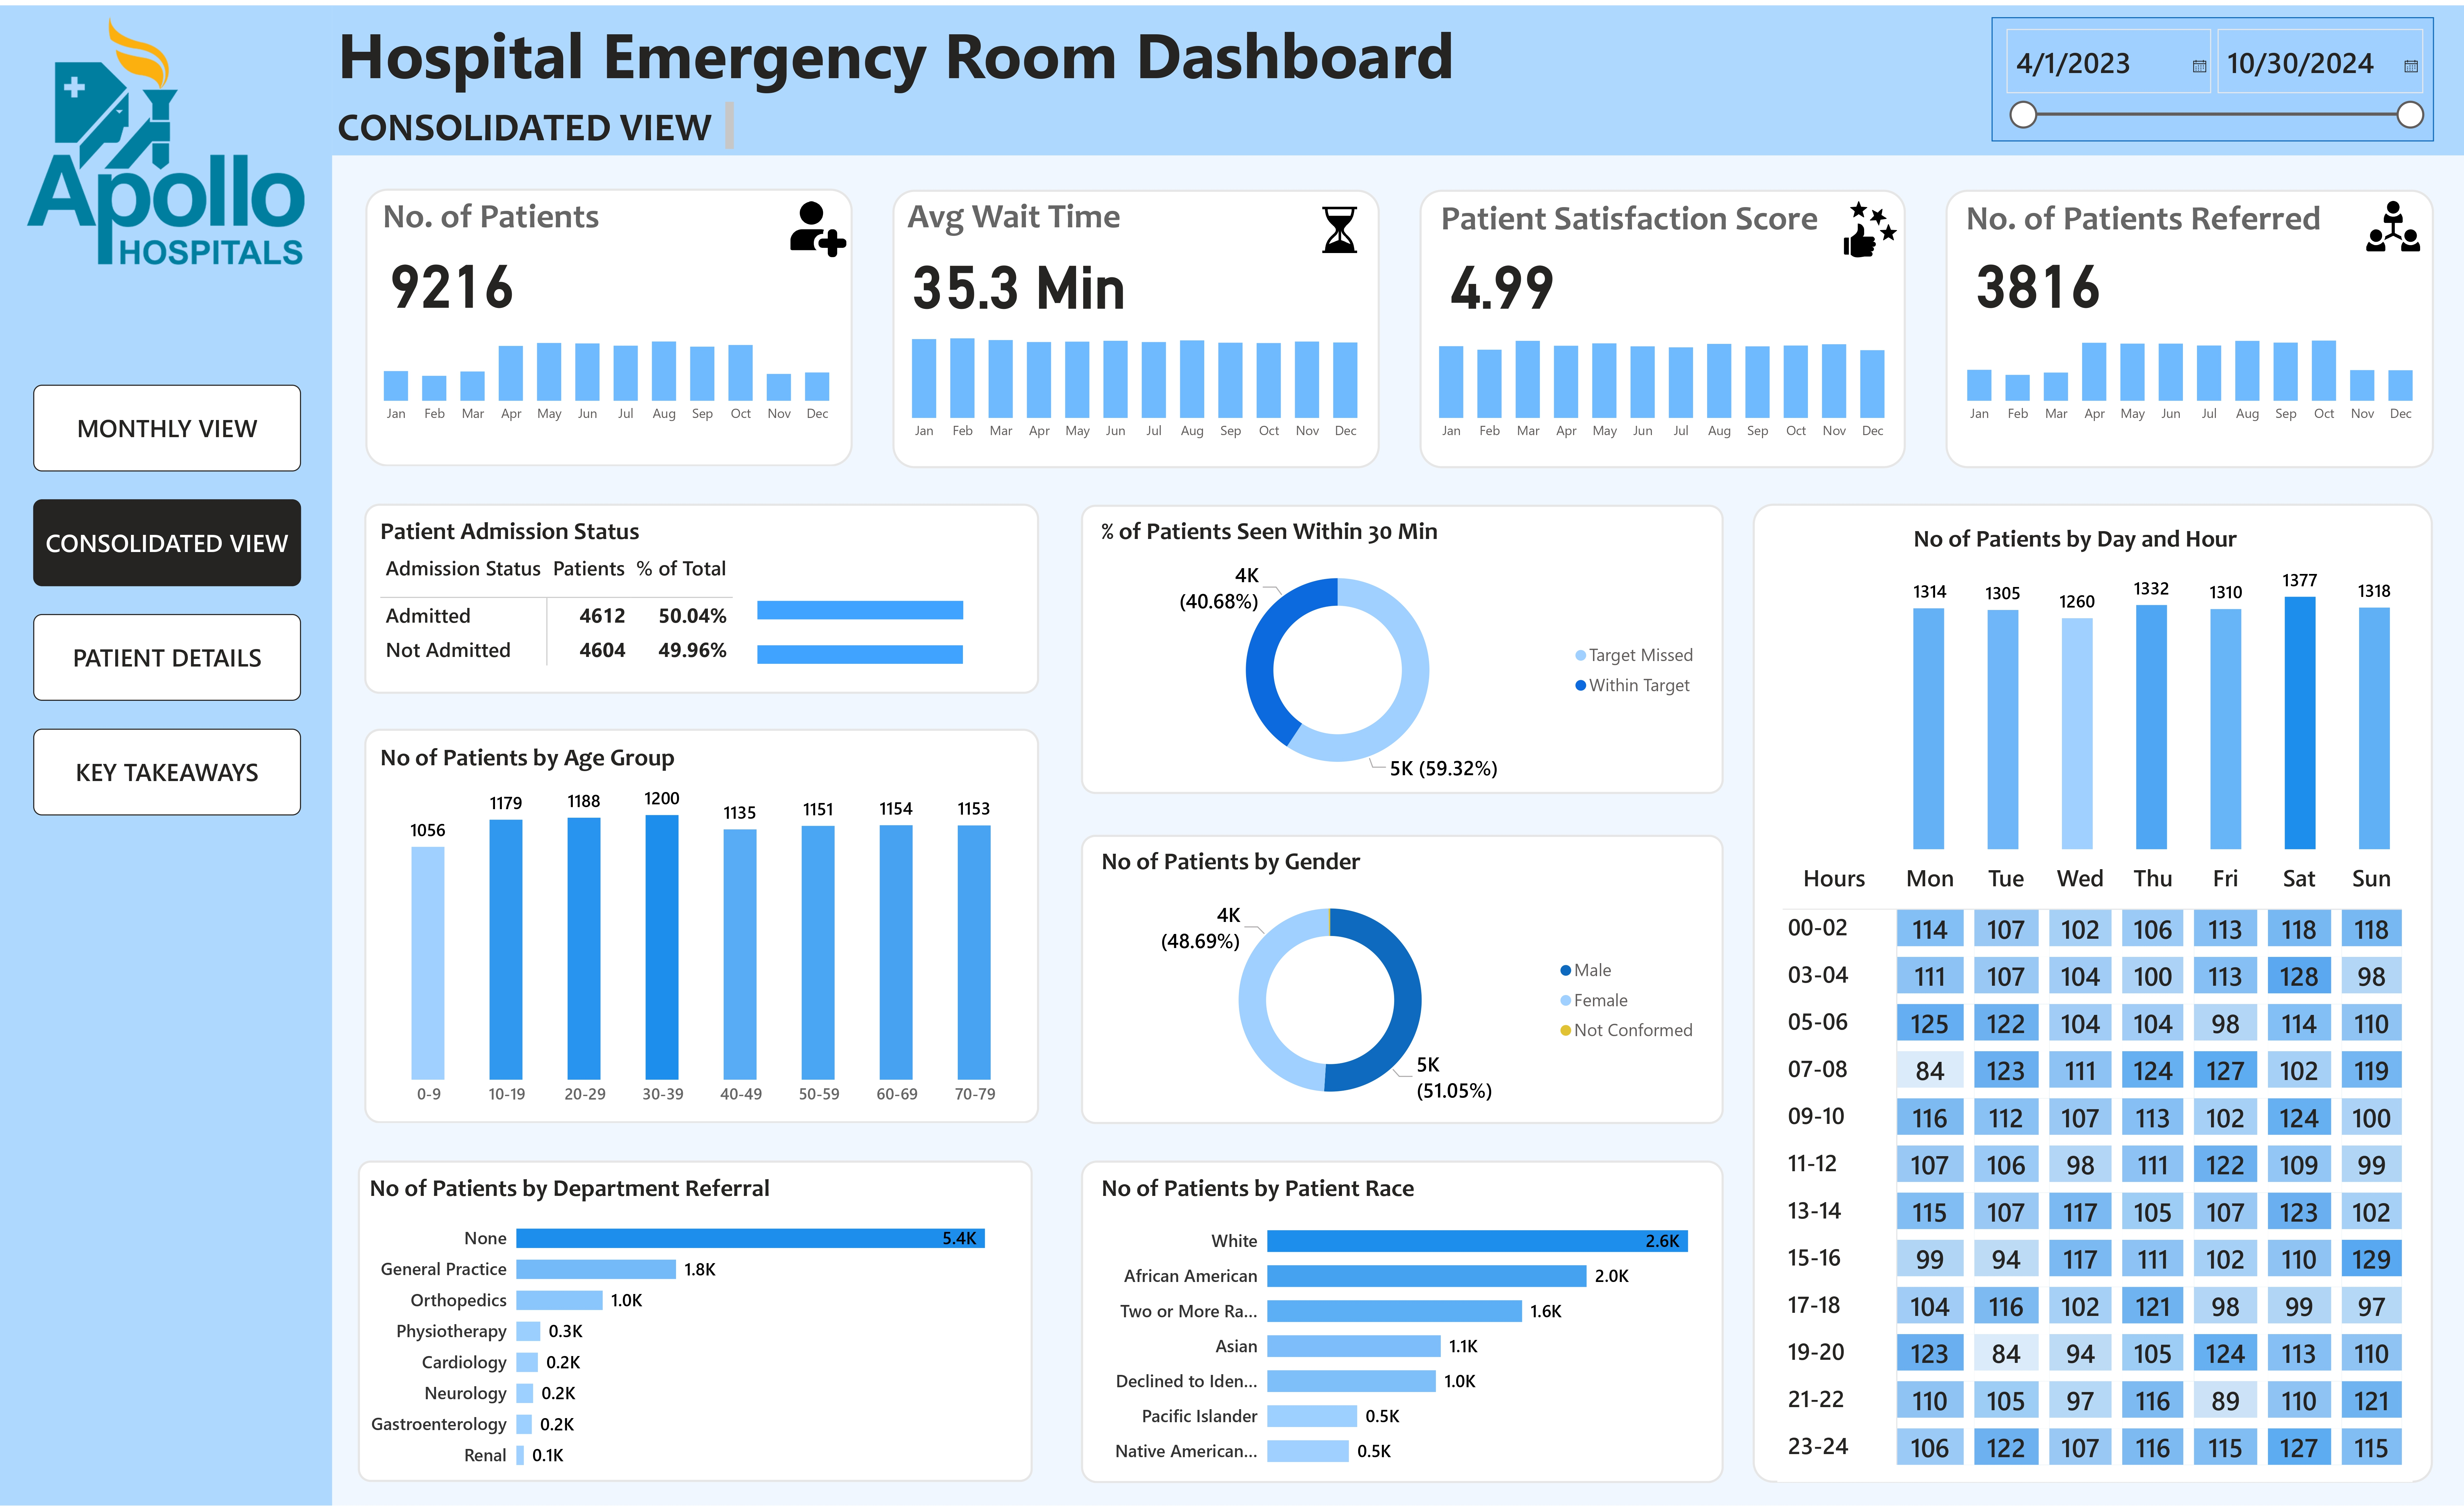

The dashboard page shown, as its layout file describes it:
{"tool":"powerbi","page":{"name":"CONSOLIDATED VIEW","canvas":[2300,1400],"ordinal":1},"visuals":[{"type":"shape","box":[0,0,310,1400],"z":0},{"type":"shape","box":[310,0,1990,140],"z":1000},{"type":"textbox","box":[310,0,1065,112.5],"z":2000},{"type":"textbox","box":[310,84.6,380,55.4],"z":3000},{"type":"shape","box":[340.8,171.5,455,259.4],"z":4000},{"type":"card","fields":{"Values":["Hospital ER_Data.No of Patients"]},"box":[351.4,221.4,141.4,68.6],"z":5000},{"type":"slicer","fields":{"Values":["Date Table.Date"]},"box":[1858.6,11.4,412.9,115.7],"z":6000},{"type":"textbox","box":[351.7,171.7,278.3,50],"z":8000},{"type":"columnChart","fields":{"Category":["Date Table.Month Name"],"Y":["Hospital ER_Data.No of Patients"]},"box":[338.7,273.7,455,125],"z":9000},{"type":"shape","box":[832.8,171.7,455,260],"z":11000},{"type":"shape","box":[1324.9,172,454,260],"z":12000},{"type":"shape","box":[1816,172,456,260],"z":13000},{"type":"textbox","box":[842,172,278,50],"z":14000},{"type":"textbox","box":[1340,174,388,50],"z":15000},{"type":"textbox","box":[1830,174,402,50],"z":16000},{"type":"card","fields":{"Values":["Hospital ER_Data.Avg Wait Time"]},"box":[843.3,221.7,216.7,68.3],"z":17000},{"type":"card","fields":{"Values":["Hospital ER_Data.Satisfaction Score"]},"box":[1340,221.7,125,68.3],"z":18000},{"type":"card","fields":{"Values":["Hospital ER_Data.No of Patient Referred"]},"box":[1830,221.4,145.7,68.6],"z":19000},{"type":"columnChart","fields":{"Category":["Date Table.Month Name"],"Y":["Avg(Hospital ER_Data.Patient Waittime)"]},"box":[832.4,289.9,455,125],"z":20000},{"type":"columnChart","fields":{"Category":["Date Table.Month Name"],"Y":["Hospital ER_Data.Satisfaction Score"]},"box":[1323.7,289.9,455,125],"z":21000},{"type":"columnChart","fields":{"Category":["Date Table.Month Name"],"Y":["Hospital ER_Data.No of Patient Referred"]},"box":[1817,273.7,455,125],"z":22000},{"type":"shape","box":[340,465,630,177.5],"z":23000},{"type":"pivotTable","title":"Patient Admission Status","fields":{"Rows":["Hospital ER_Data.Admission Status"],"Values":["Hospital ER_Data.No of Patients","Divide(Hospital ER_Data.No of Patients, ScopedEval(Hospital ER_Data.No of Patients, []))"]},"box":[350,475.7,611.4,155.7],"z":24000},{"type":"barChart","fields":{"Category":["Hospital ER_Data.Admission Status"],"Y":["Hospital ER_Data.No of Patients"]},"box":[701.7,521.7,260,121.7],"z":25000},{"type":"shape","box":[340,675,630,368.3],"z":26000},{"type":"clusteredColumnChart","fields":{"Category":["Hospital ER_Data.Age Group"],"Y":["Hospital ER_Data.No of Patients"]},"box":[350,687.3,610.9,349.1],"z":27000},{"type":"shape","box":[334,1078,630,300],"z":28000},{"type":"clusteredBarChart","fields":{"Category":["Hospital ER_Data.Department Referral"],"Y":["Hospital ER_Data.No of Patients"]},"box":[340,1088.9,612.2,290],"z":29000},{"type":"shape","box":[1009.1,466.1,600,270],"z":30000},{"type":"donutChart","title":"% of Patients Seen Within 30 Min","fields":{"Category":["Hospital ER_Data.Waittime Status"],"Y":["Hospital ER_Data.No of Patients"]},"box":[1023.3,475.6,572.2,260],"z":31000},{"type":"shape","box":[1008.9,774.4,600,270],"z":32000},{"type":"donutChart","title":"No of Patients by Gender","fields":{"Y":["Hospital ER_Data.No of Patients"],"Category":["Hospital ER_Data.Patient Gender"]},"box":[1023.3,784.4,572.2,260],"z":33000},{"type":"shape","box":[1008.9,1077.8,600,301.1],"z":34000},{"type":"clusteredBarChart","fields":{"Y":["Hospital ER_Data.No of Patients"],"Category":["Hospital ER_Data.Patient Race"]},"box":[1023.3,1088.9,586.7,288.9],"z":35000},{"type":"shape","box":[1636.2,465,635,913.8],"z":36000},{"type":"pivotTable","fields":{"Rows":["Hospital ER_Data.Waittime Interval"],"Columns":["Date Table.Day Name"],"Values":["Hospital ER_Data.No of Patients"]},"box":[1659,793,593,585],"z":37000},{"type":"columnChart","title":"No of Patients by Day and Hour","fields":{"Category":["Date Table.Day Name"],"Y":["Hospital ER_Data.No of Patients"]},"box":[1780.9,482.7,457.3,310],"z":38000},{"type":"image","box":[733.3,175,61.7,68.3],"z":39000},{"type":"image","box":[1213.8,182.5,73.8,52.5],"z":40000},{"type":"image","box":[1713,174,66,69],"z":41000},{"type":"image","box":[2204.3,174.3,60,64.3],"z":42000},{"type":"image","box":[0,0,310,256],"z":43000},{"type":"pageNavigator","box":[30.8,354,250.6,402.3],"z":43001}]}

Visuals, with their boxes in screenshot pixels (x1, y1, x2, y2), scaled from the page's 2300x1400 canvas onto the 2464x1511 screenshot:
shape: 0 0 332 1511
shape: 332 0 2464 151
textbox: 332 0 1473 121
textbox: 332 91 739 151
shape: 365 185 853 465
card - Hospital ER_Data.No of Patients: 376 239 528 313
slicer - Date Table.Date: 1991 12 2433 137
textbox: 377 185 675 239
columnChart - Date Table.Month Name x Hospital ER_Data.No of Patients: 363 296 850 430
shape: 892 185 1380 466
shape: 1420 185 1906 466
shape: 1945 185 2434 466
textbox: 902 185 1200 240
textbox: 1436 188 1851 242
textbox: 1960 188 2391 242
card - Hospital ER_Data.Avg Wait Time: 903 239 1136 313
card - Hospital ER_Data.Satisfaction Score: 1436 239 1569 313
card - Hospital ER_Data.No of Patient Referred: 1960 239 2116 313
columnChart - Date Table.Month Name x Avg(Hospital ER_Data.Patient Waittime): 892 313 1379 448
columnChart - Date Table.Month Name x Hospital ER_Data.Satisfaction Score: 1418 313 1906 448
columnChart - Date Table.Month Name x Hospital ER_Data.No of Patient Referred: 1947 296 2434 430
shape: 364 502 1039 693
"Patient Admission Status" pivotTable: 375 513 1030 682
barChart - Hospital ER_Data.Admission Status x Hospital ER_Data.No of Patients: 752 563 1030 694
shape: 364 729 1039 1126
clusteredColumnChart - Hospital ER_Data.Age Group x Hospital ER_Data.No of Patients: 375 742 1029 1118
shape: 358 1163 1033 1487
clusteredBarChart - Hospital ER_Data.Department Referral x Hospital ER_Data.No of Patients: 364 1175 1020 1488
shape: 1081 503 1724 794
"% of Patients Seen Within 30 Min" donutChart: 1096 513 1709 794
shape: 1081 836 1724 1127
"No of Patients by Gender" donutChart: 1096 847 1709 1127
shape: 1081 1163 1724 1488
clusteredBarChart - Hospital ER_Data.No of Patients x Hospital ER_Data.Patient Race: 1096 1175 1725 1487
shape: 1753 502 2433 1488
pivotTable - Hospital ER_Data.Waittime Interval x Date Table.Day Name: 1777 856 2413 1487
"No of Patients by Day and Hour" columnChart: 1908 521 2398 855
image: 786 189 852 263
image: 1300 197 1379 254
image: 1835 188 1906 262
image: 2362 188 2426 257
image: 0 0 332 276
pageNavigator: 33 382 301 816
